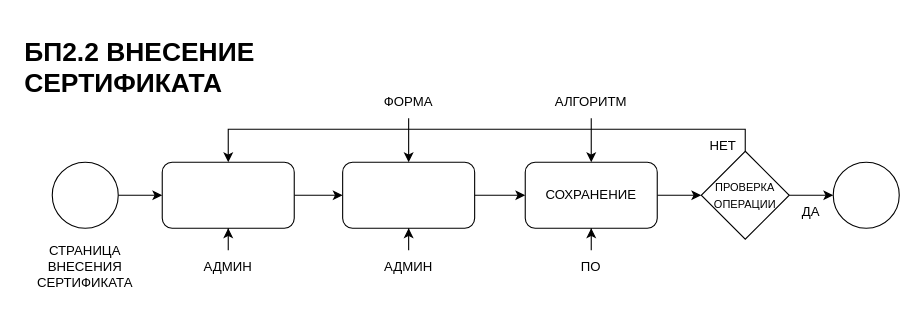
Some shapes in this 919 by 309 pixel diagram are drawn without their labels. The shapes that lost their labels are listed below. From the top down, each one's centre as x and y in pixels, then its label:
point 227,194: ПОДГОТОВКА ФАЙЛА
point 408,194: ВЫБОР СЕРТИФИКАТА
